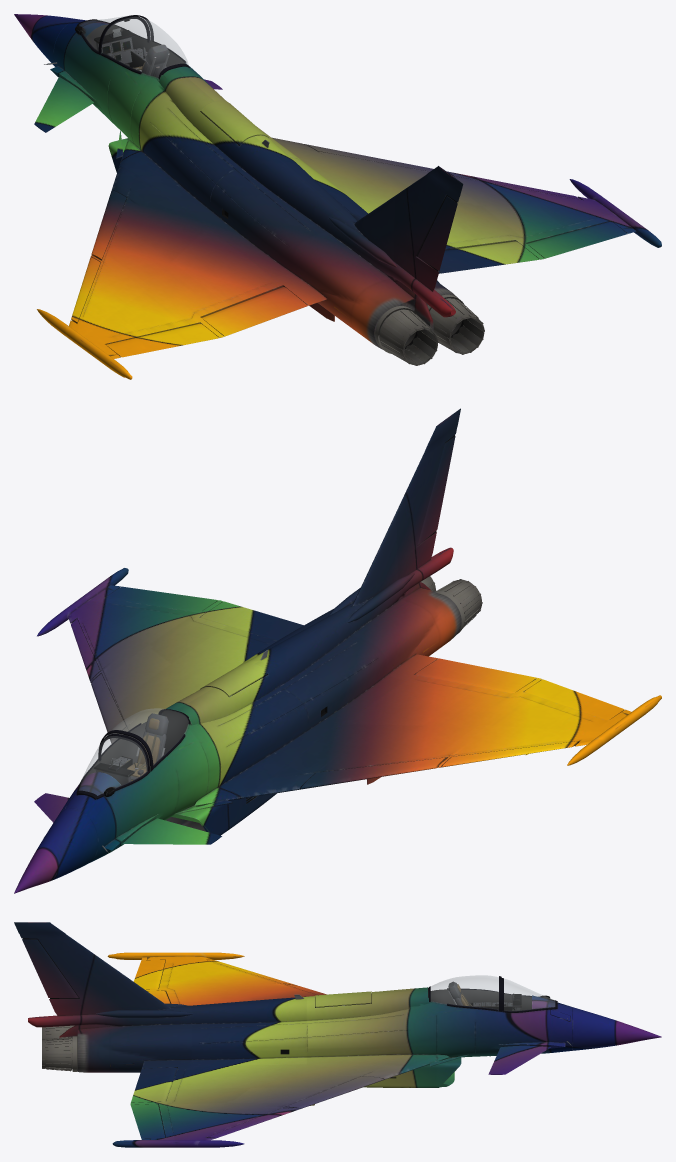
The model's file is e_typhoon.harlequin.glb.
3 views of the same model, one above another, from view 1: azimuth 30°, elevation 25°; view 2: azimuth 150°, elevation 25°; view 3: azimuth 270°, elevation 25° (orthographic). The views are drawn at different scales.
Visible parts, largest first — view 1: body|Typhoon_paint, body|glass; view 2: body|Typhoon_paint, body|glass; view 3: body|Typhoon_paint, body|glass.
Boxes of the visible parts, x1=… form: body|Typhoon_paint: x1=14, y1=14, x2=661, y2=379; body|glass: x1=79, y1=16, x2=188, y2=78; body|Typhoon_paint: x1=14, y1=408, x2=661, y2=893; body|glass: x1=79, y1=708, x2=188, y2=795; body|Typhoon_paint: x1=14, y1=922, x2=661, y2=1147; body|glass: x1=431, y1=975, x2=554, y2=1010.
Bounding box in the file's own units: 11.1 × 4.13 × 15.97.
2 materials, 1 textured.
